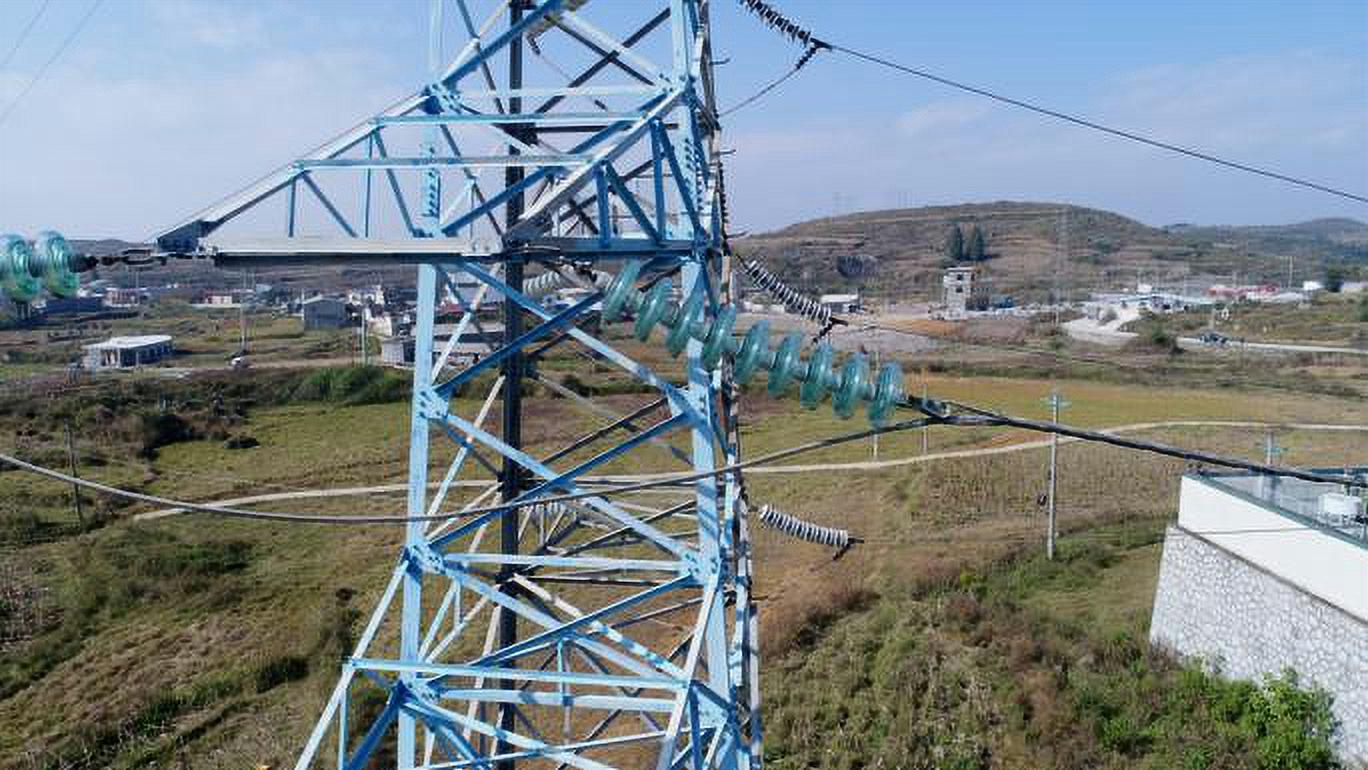insulator: (590, 254, 910, 438), (1, 226, 92, 316), (737, 252, 839, 332), (746, 497, 855, 554), (736, 1, 819, 53), (514, 259, 584, 305)
